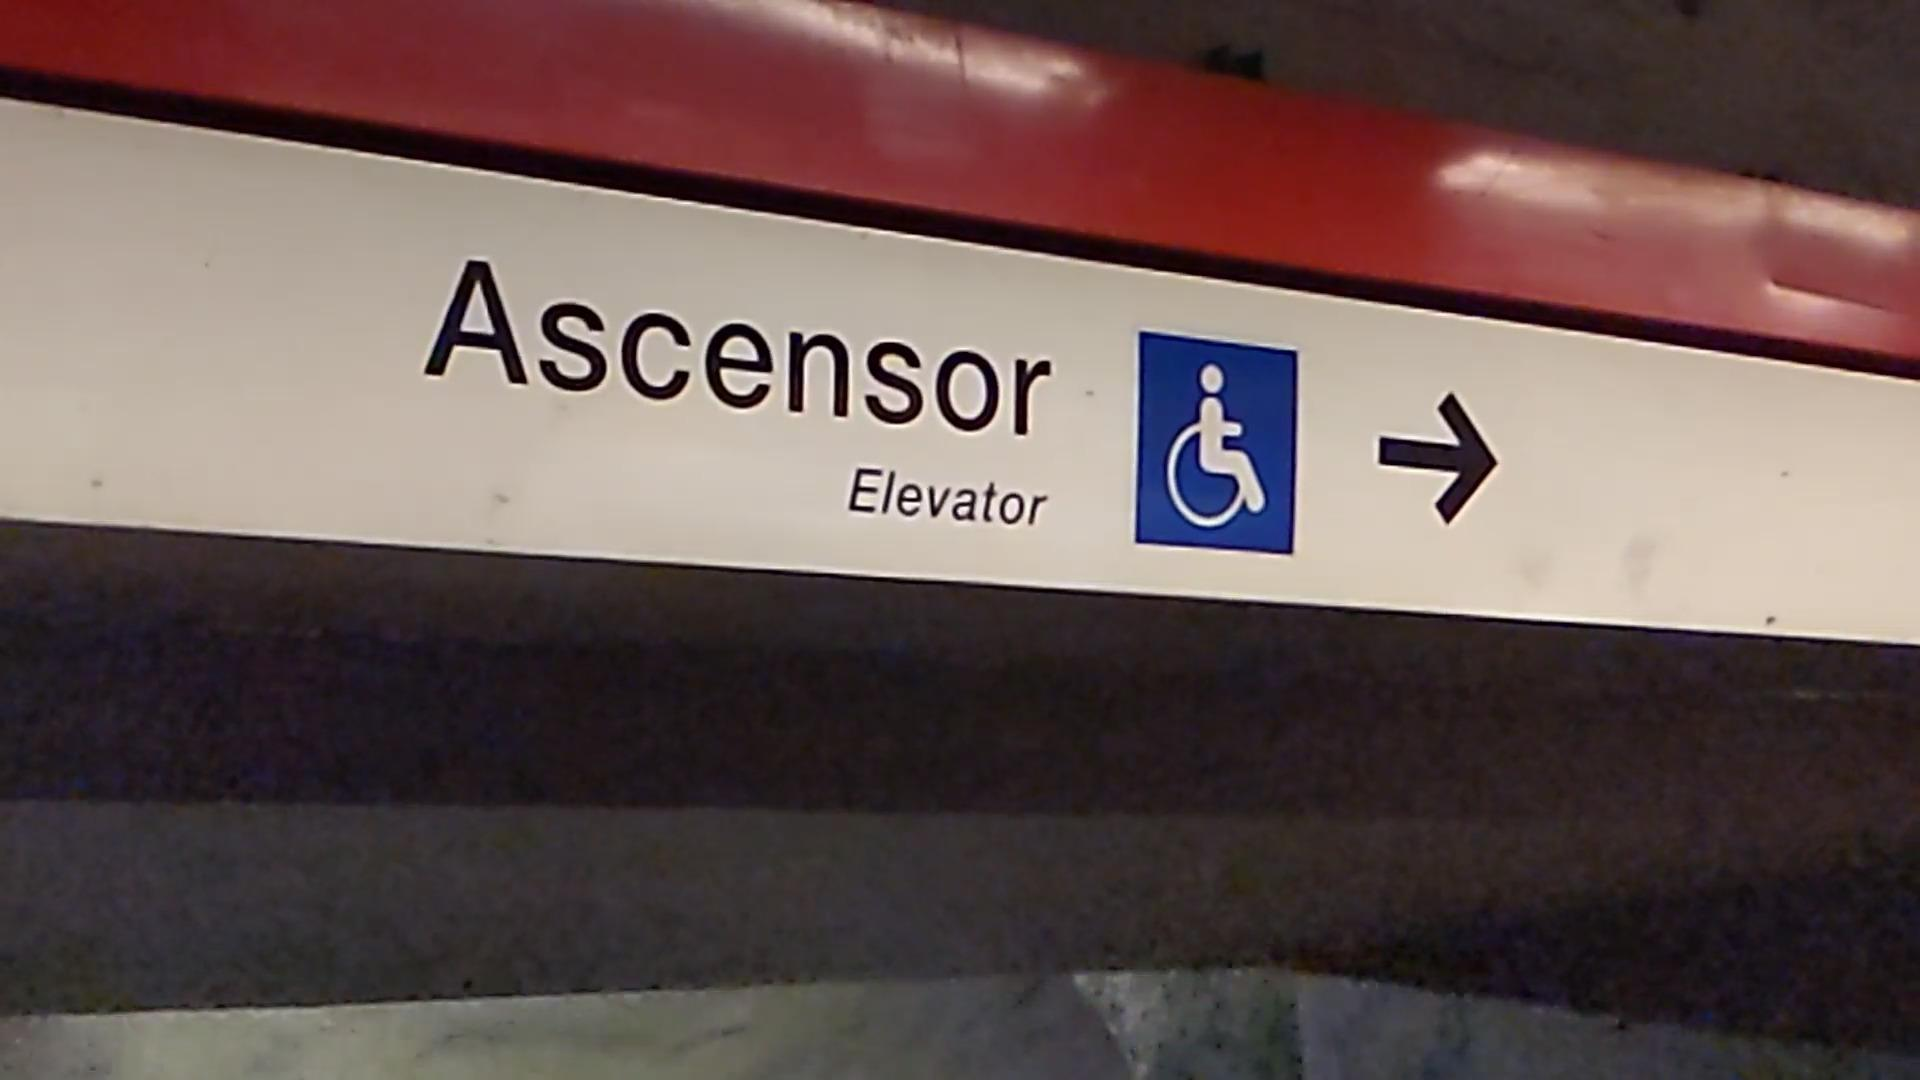handicapped symbol: (1163, 361, 1269, 531)
right arrow: (1373, 386, 1505, 530)
